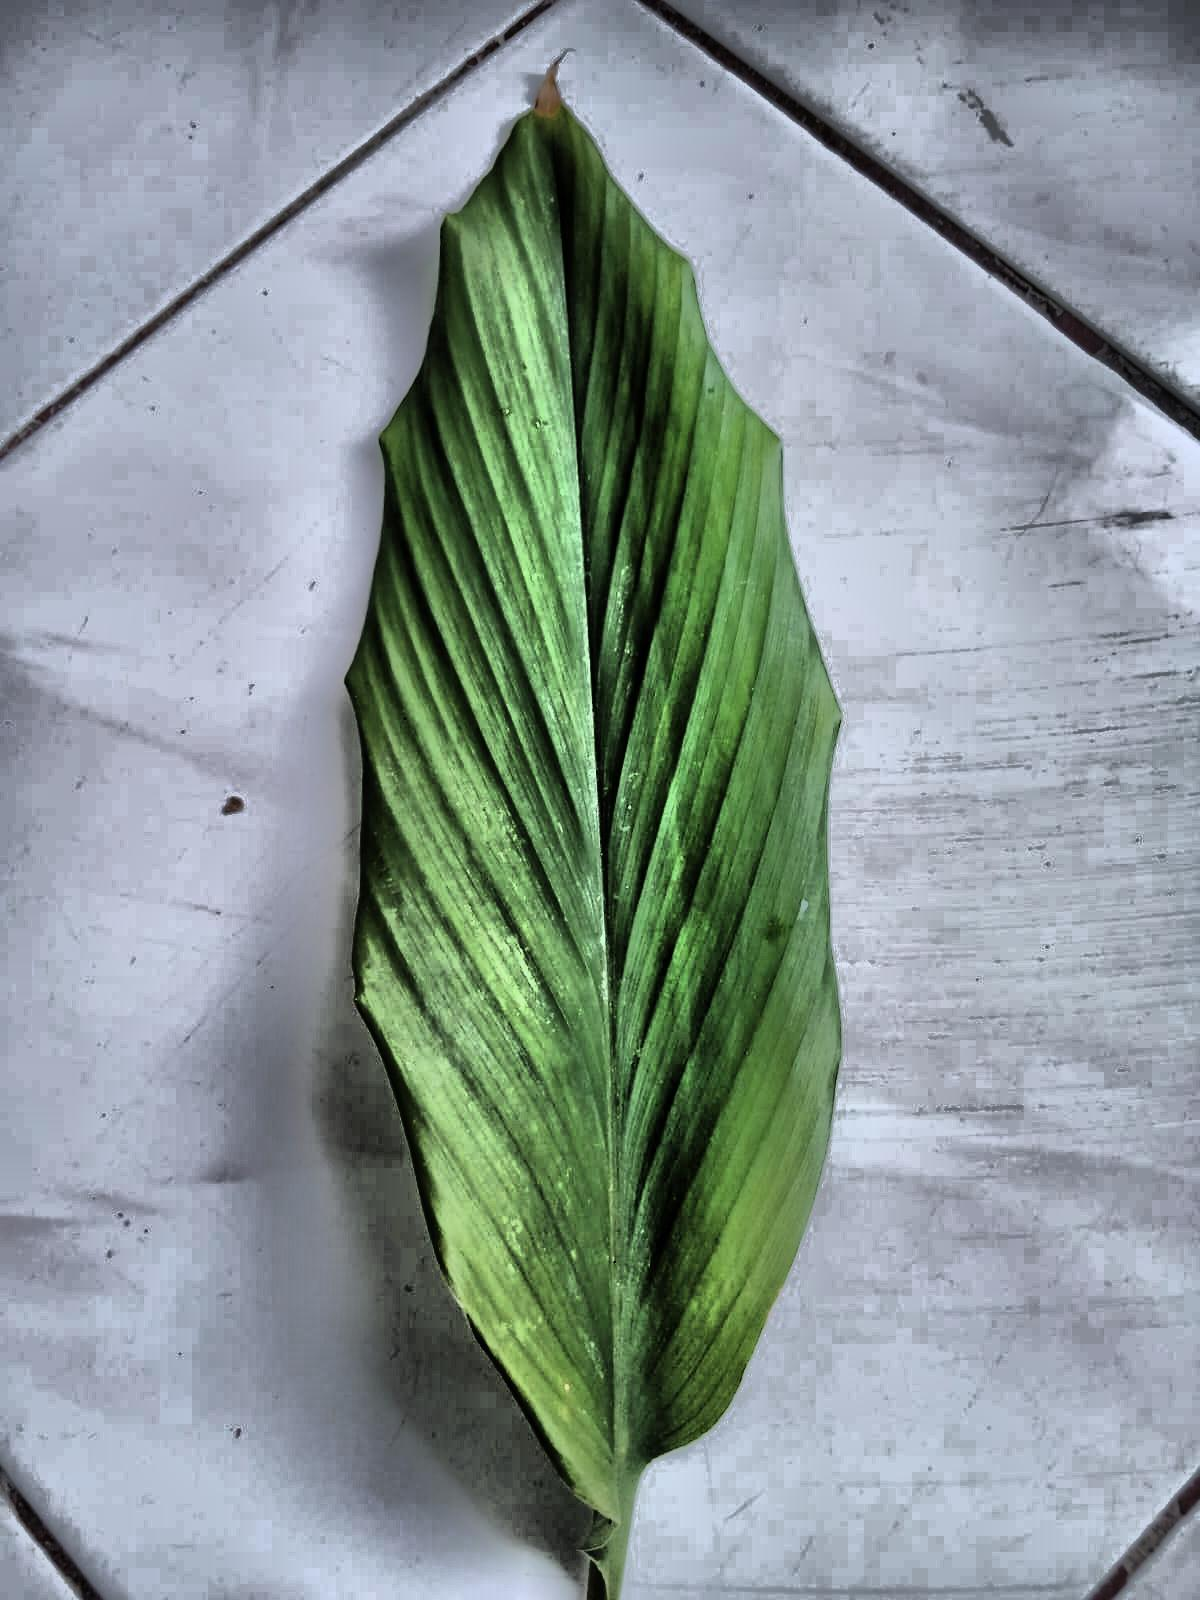daun kunyit: (347, 76, 841, 1599)
